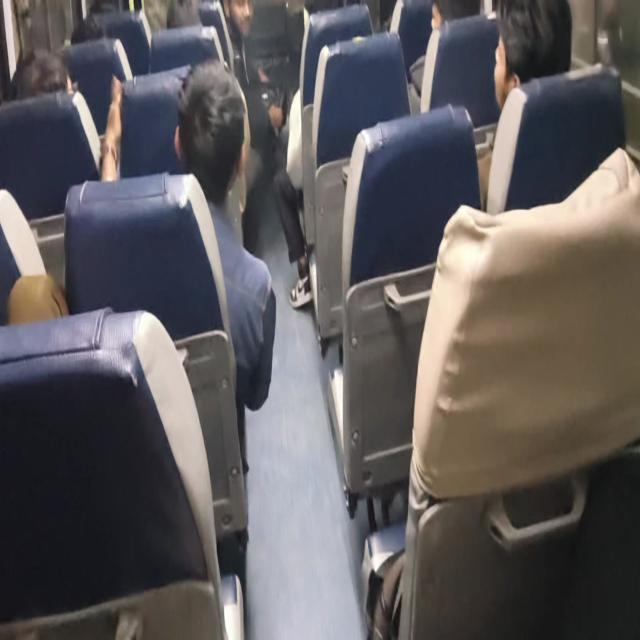person: (176, 71, 254, 174), (489, 12, 553, 104), (13, 52, 66, 112), (424, 0, 481, 50), (63, 9, 112, 50), (154, 0, 224, 28), (216, 5, 263, 42)
